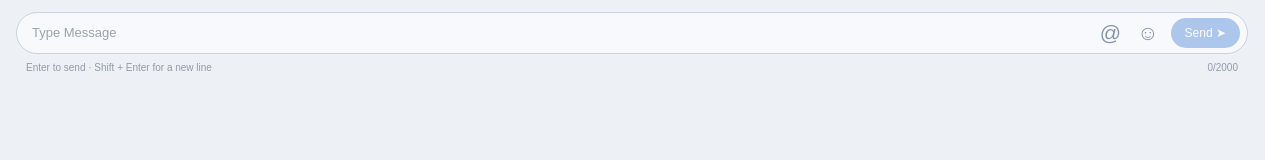
it: Chat composer › preserves draft and reuses its request ID when retrying a failed send
Type "Keep my draft" into the text box labelled "Message".
click(560, 33); type("Keep my draft")  # box top-left (32, 19), bottom-right (1088, 47)
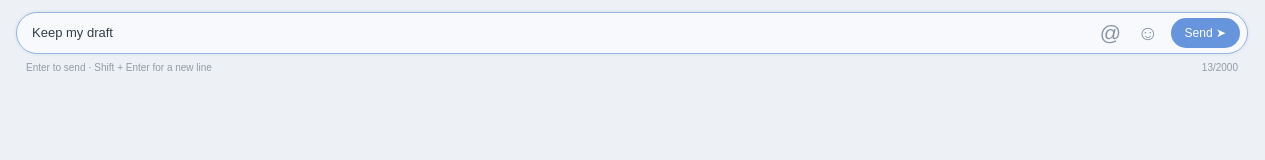
Click the button "Send ➤".
click(1205, 33)  # box top-left (1171, 18), bottom-right (1240, 48)
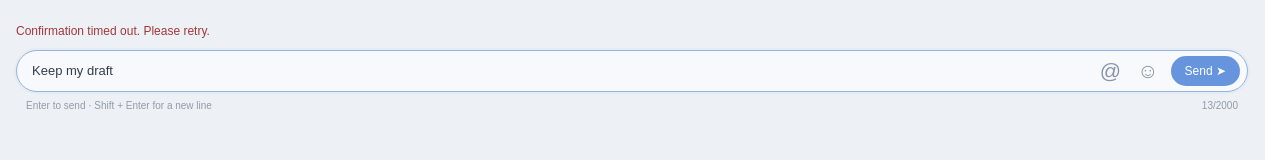
Now the message shows "Confirmation timed out", box top-left (16, 24), bottom-right (210, 38)
Click the button "Send ➤".
click(1205, 71)  # box top-left (1171, 56), bottom-right (1240, 86)
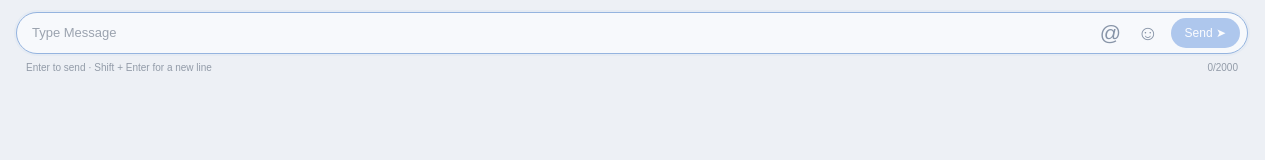
Now the text box labelled "Message" is empty, box top-left (32, 19), bottom-right (1088, 47)
